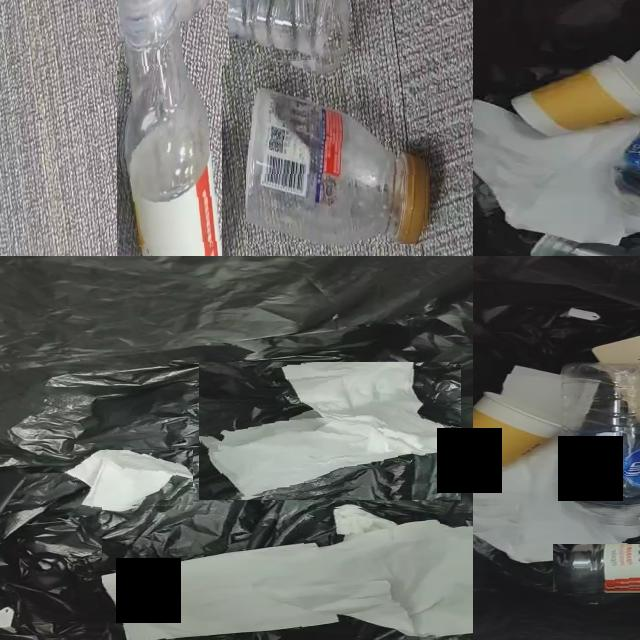bottle: (246, 89, 427, 244), (118, 0, 221, 256), (562, 364, 640, 543), (553, 544, 640, 593)
dixie_cup: (511, 57, 640, 136), (473, 393, 562, 476)
paper: (102, 507, 473, 640), (201, 362, 461, 497), (473, 100, 640, 244), (473, 440, 625, 563), (66, 450, 193, 509), (497, 366, 565, 428)
